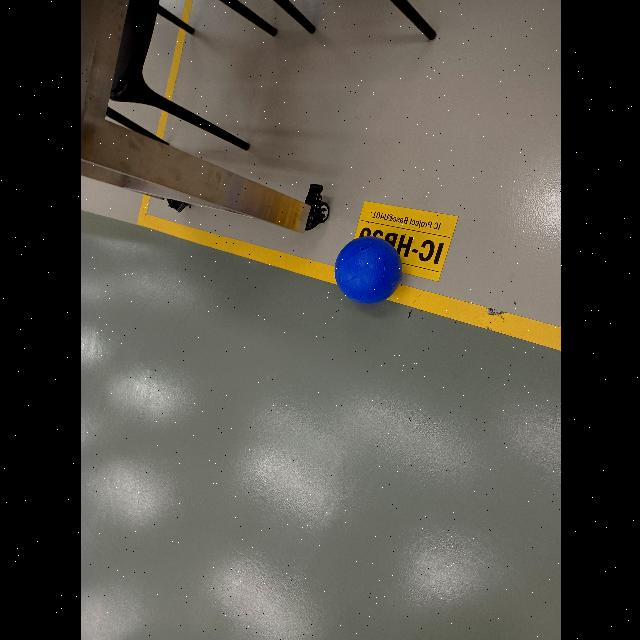B: (334, 232, 402, 306)
